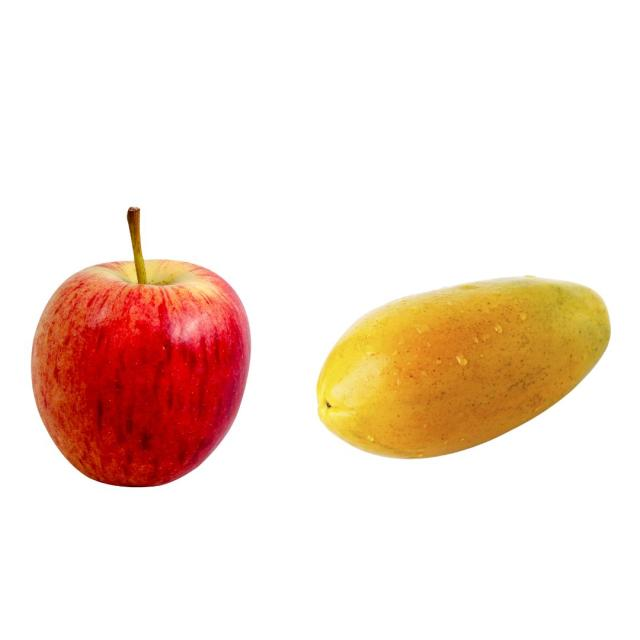Apel: (31, 205, 252, 488)
Pepaya: (317, 273, 612, 459)
